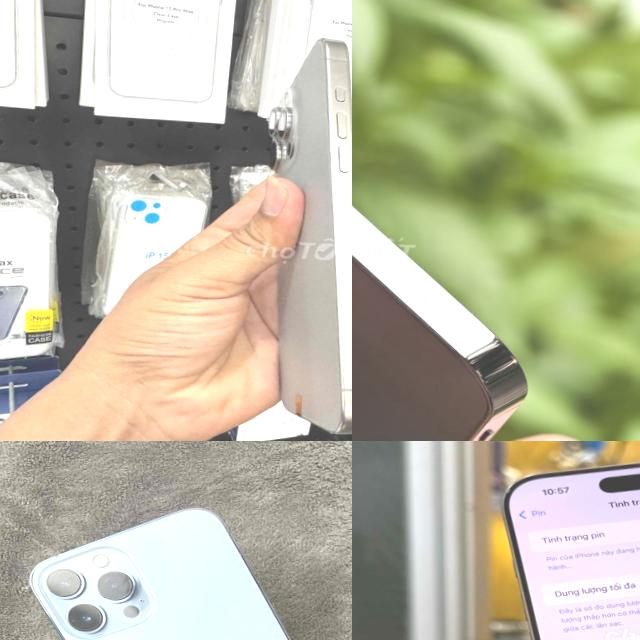gen_12_13: (8, 493, 352, 640)
gen_14: (352, 96, 547, 441)
gen_15: (224, 29, 352, 441)
gen_16: (455, 441, 640, 640)
